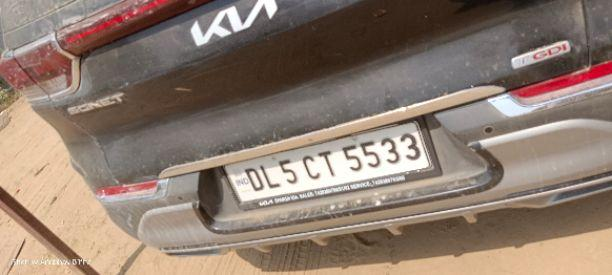license_plate: (220, 117, 440, 209)
